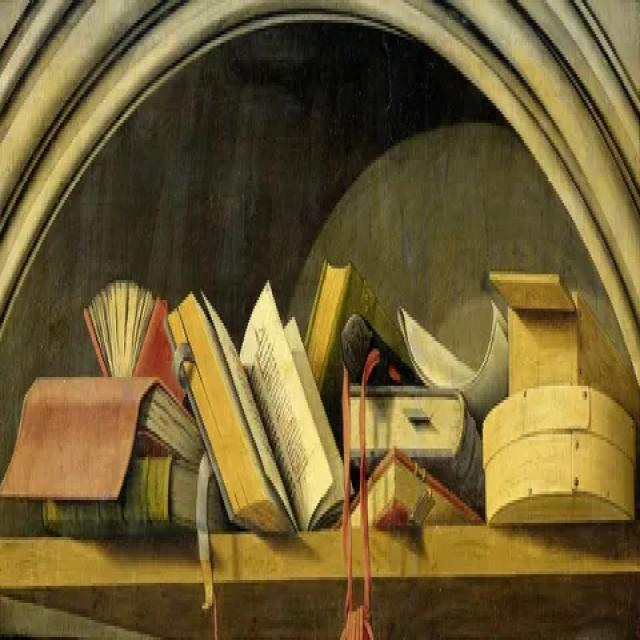book: (162, 272, 352, 554)
